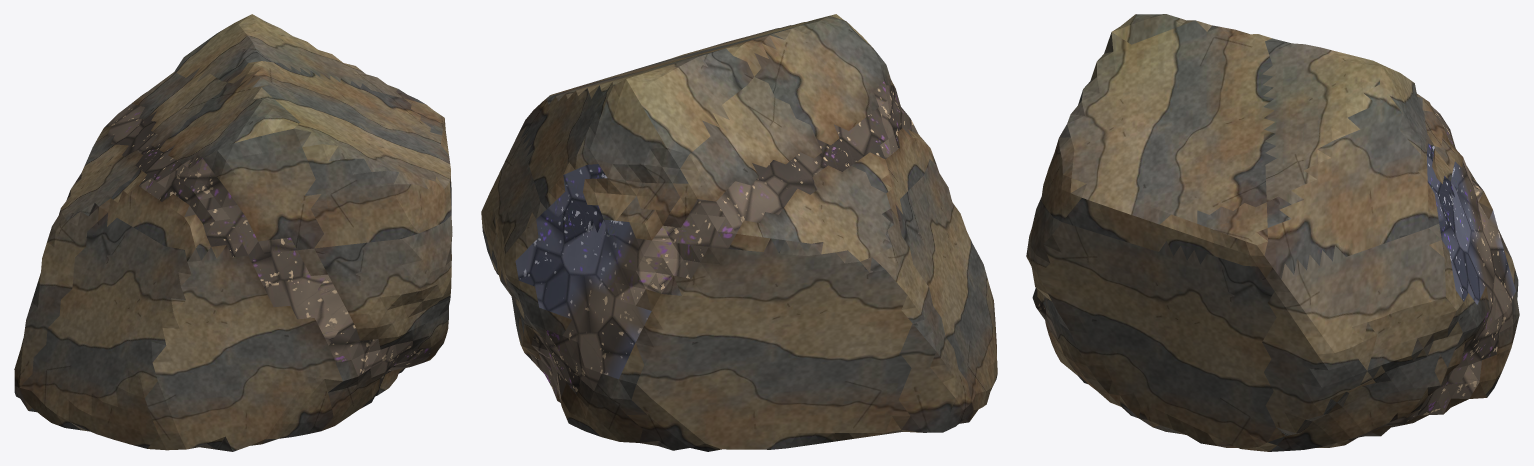
The model's file is boulder.glb.
The picture shows the model from 3 angles, left to right: view 1: azimuth 30°, elevation 25°; view 2: azimuth 150°, elevation 25°; view 3: azimuth 270°, elevation 25°; orthographic projection. The views are drawn at different scales.
Parts seen in each view (by area): view 1: BoulderMesh; view 2: BoulderMesh; view 3: BoulderMesh.
Part boxes in pixels (<box>): BoulderMesh: <box>14,14,452,451</box>; BoulderMesh: <box>481,14,997,451</box>; BoulderMesh: <box>1026,14,1519,451</box>.
Size of the model in its own units: 1.79 by 1.16 by 1.55.
Materials: 2 (2 with a texture image).
